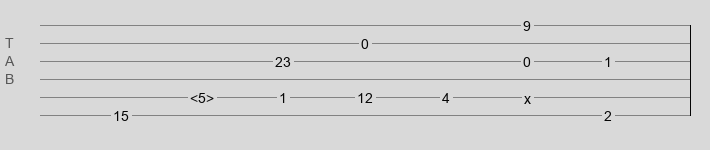0: (361, 36, 369, 46), (523, 54, 531, 64)
1: (279, 90, 287, 100), (604, 54, 612, 64)
12: (357, 90, 373, 100)
15: (113, 108, 129, 118)
2: (604, 108, 612, 118)
23: (275, 54, 291, 64)
4: (442, 90, 450, 100)
9: (523, 18, 531, 28)
harmonic: (190, 90, 214, 100)
x: (524, 91, 531, 99)
